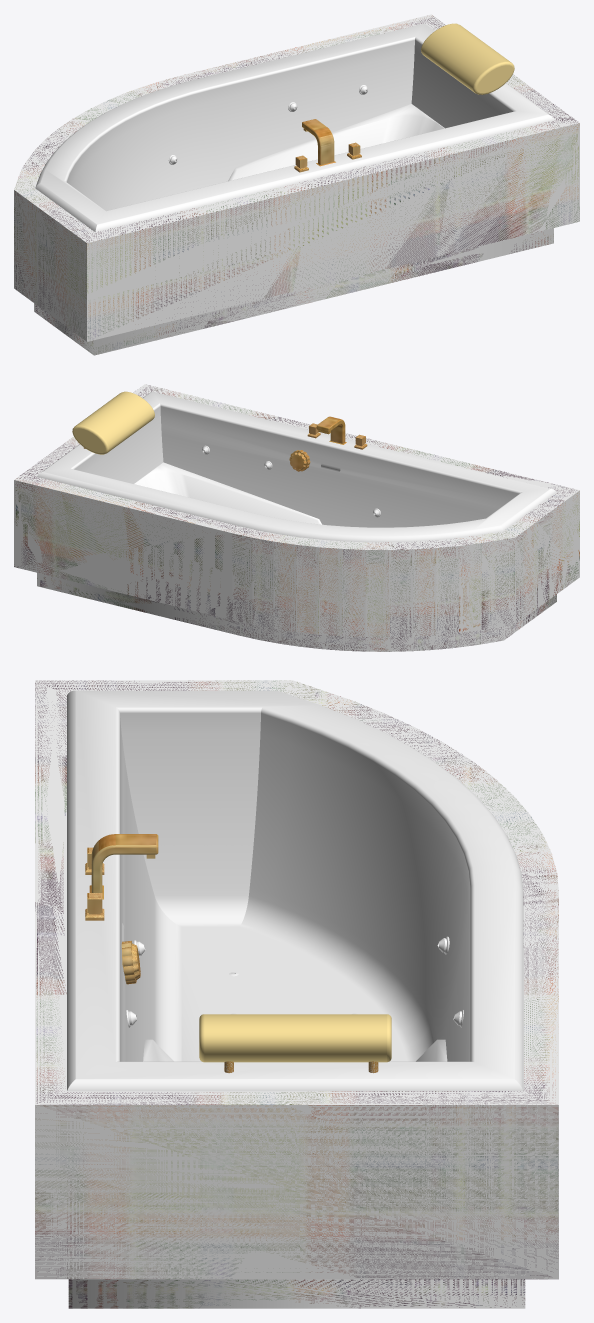
3 views of the same model, one above another, from view 1: azimuth 30°, elevation 25°; view 2: azimuth 150°, elevation 25°; view 3: azimuth 270°, elevation 25° (orthographic). The views are drawn at different scales.
Visible parts, largest first — view 1: mesh61_mesh61-geometry, mesh7_mesh7-geometry, mesh25_mesh25-geometry; view 2: mesh61_mesh61-geometry, mesh7_mesh7-geometry, mesh25_mesh25-geometry; view 3: mesh61_mesh61-geometry, mesh7_mesh7-geometry, mesh25_mesh25-geometry.
Boxes of the visible parts, left/top/right/bottom form: mesh61_mesh61-geometry: left=14, top=14, right=579, bottom=355; mesh7_mesh7-geometry: left=421, top=23, right=514, bottom=94; mesh25_mesh25-geometry: left=302, top=119, right=335, bottom=166; mesh61_mesh61-geometry: left=14, top=384, right=579, bottom=651; mesh7_mesh7-geometry: left=72, top=391, right=154, bottom=454; mesh25_mesh25-geometry: left=316, top=416, right=346, bottom=444; mesh61_mesh61-geometry: left=35, top=680, right=558, bottom=1308; mesh7_mesh7-geometry: left=199, top=1014, right=391, bottom=1062; mesh25_mesh25-geometry: left=89, top=834, right=158, bottom=899.
Bounding box in the file's own units: 0.8555 × 0.2628 × 0.4462.
